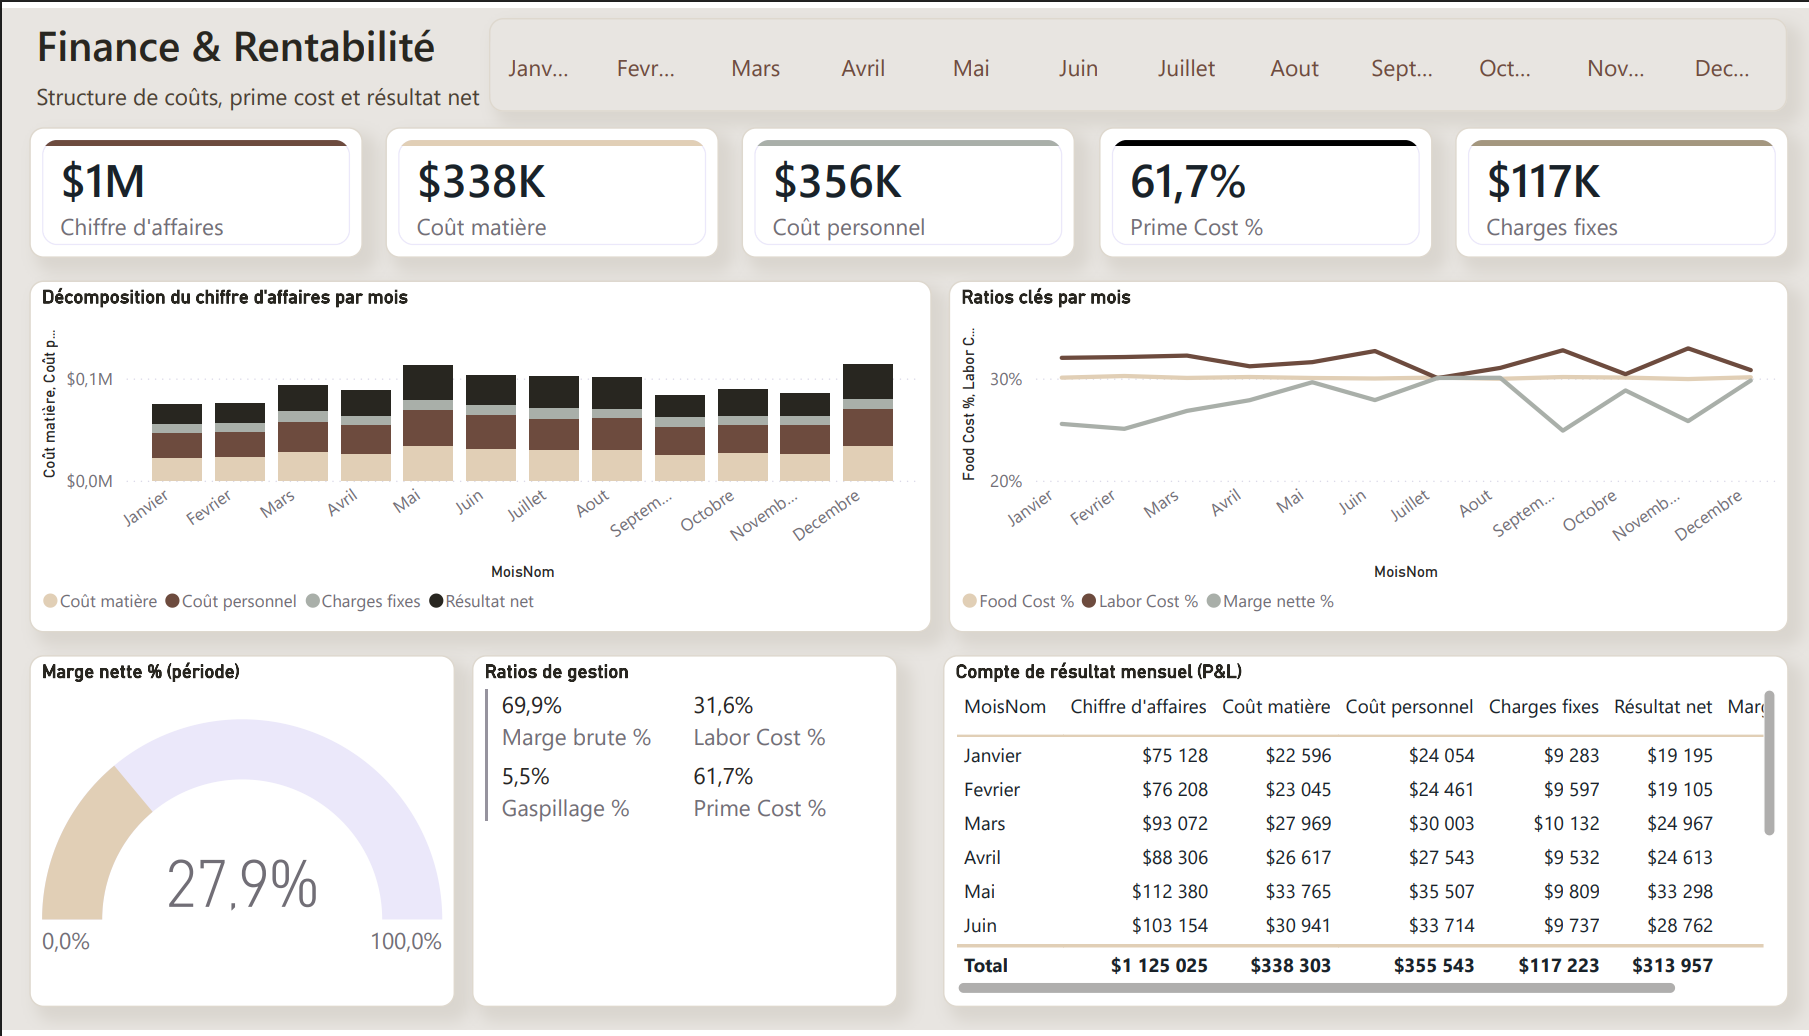

Layout of this report page (visuals, bound fields, positions):
{"tool":"powerbi","page":{"name":"Finance & Rentabilité","canvas":[1280,720],"ordinal":1},"visuals":[{"type":"textbox","box":[20.1,0,318.3,65.6],"z":0},{"type":"textbox","box":[20.1,46.3,334,48.1],"z":1000},{"type":"advancedSlicerVisual","title":"Mois","fields":{"Values":["Calendrier.MoisNom"]},"box":[344.5,7,915.4,65.6],"z":2000},{"type":"cardVisual","fields":{"Data":["Ventes.Chiffre d'affaires"]},"box":[20,84,235.2,92],"z":3000},{"type":"cardVisual","fields":{"Data":["Ventes.Coût matière"]},"box":[271.2,84,235.2,92],"z":4000},{"type":"cardVisual","fields":{"Data":["Ventes.Coût personnel"]},"box":[522.4,84,235.2,92],"z":5000},{"type":"cardVisual","fields":{"Data":["Ventes.Prime Cost %"]},"box":[773.6,84,235.2,92],"z":6000},{"type":"cardVisual","fields":{"Data":["Ventes.Charges fixes"]},"box":[1024.7,83.9,235.2,92],"z":7000},{"type":"columnChart","title":"Décomposition du chiffre d''affaires par mois","fields":{"Category":["Calendrier.MoisNom"],"Y":["Ventes.Coût matière","Ventes.Coût personnel","Ventes.Charges fixes","Ventes.Résultat net"]},"box":[20,192,636,248],"z":8000},{"type":"lineChart","title":"Ratios clés par mois","fields":{"Category":["Calendrier.MoisNom"],"Y":["Ventes.Food Cost %","Ventes.Labor Cost %","Ventes.Marge nette %"]},"box":[668,192,592,248],"z":9000},{"type":"gauge","title":"Marge nette % (période)","fields":{"Y":["Ventes.Marge nette %"]},"box":[20,456,300,248],"z":10000},{"type":"multiRowCard","title":"Ratios de gestion","fields":{"Values":["Ventes.Marge brute %","Ventes.Labor Cost %","Ventes.Gaspillage %","Ventes.Prime Cost %"]},"box":[332,456,300,248],"z":11000},{"type":"tableEx","title":"Compte de résultat mensuel (P&L)","fields":{"Values":["Calendrier.MoisNom","Ventes.Chiffre d'affaires","Ventes.Coût matière","Ventes.Coût personnel","Ventes.Charges fixes","Ventes.Résultat net","Ventes.Marge nette %"]},"box":[664,456,596,248],"z":12000}]}

Visuals, with their boxes in screenshot pixels (x1, y1, x2, y2), scaled from the page's 1280x720 canvas onto the 1809x1036 screenshot:
textbox: (left=28, top=0, right=478, bottom=94)
textbox: (left=28, top=67, right=500, bottom=136)
"Mois" advancedSlicerVisual: (left=487, top=10, right=1781, bottom=104)
cardVisual - Ventes.Chiffre d'affaires: (left=28, top=121, right=361, bottom=253)
cardVisual - Ventes.Coût matière: (left=383, top=121, right=716, bottom=253)
cardVisual - Ventes.Coût personnel: (left=738, top=121, right=1071, bottom=253)
cardVisual - Ventes.Prime Cost %: (left=1093, top=121, right=1426, bottom=253)
cardVisual - Ventes.Charges fixes: (left=1448, top=121, right=1781, bottom=253)
"Décomposition du chiffre d''affaires par mois" columnChart: (left=28, top=276, right=927, bottom=633)
"Ratios clés par mois" lineChart: (left=944, top=276, right=1781, bottom=633)
"Marge nette % (période)" gauge: (left=28, top=656, right=452, bottom=1013)
"Ratios de gestion" multiRowCard: (left=469, top=656, right=893, bottom=1013)
"Compte de résultat mensuel (P&L)" tableEx: (left=938, top=656, right=1781, bottom=1013)
